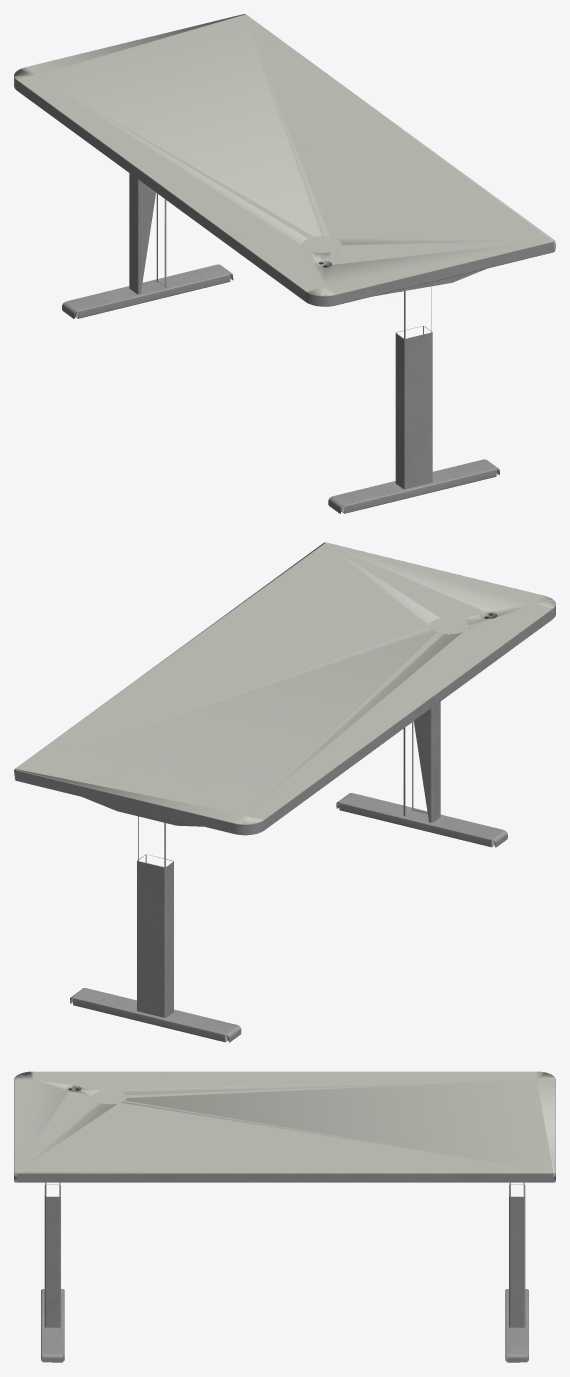
The model's file is desk_a01.glb.
The picture shows the model from 3 angles, top to bottom: view 1: azimuth 30°, elevation 25°; view 2: azimuth 150°, elevation 25°; view 3: azimuth 270°, elevation 25°; orthographic projection. The views are drawn at different scales.
Parts seen in each view (by area): view 1: sm_desk_a01_01; view 2: sm_desk_a01_01; view 3: sm_desk_a01_01.
Part boxes in pixels (bbox=[...]): sm_desk_a01_01: bbox=[14, 14, 555, 513]; sm_desk_a01_01: bbox=[14, 542, 555, 1042]; sm_desk_a01_01: bbox=[14, 1071, 555, 1362].
Bounding box in the file's own units: 0.802 × 0.758 × 1.8.
3 materials, 3 textured.
